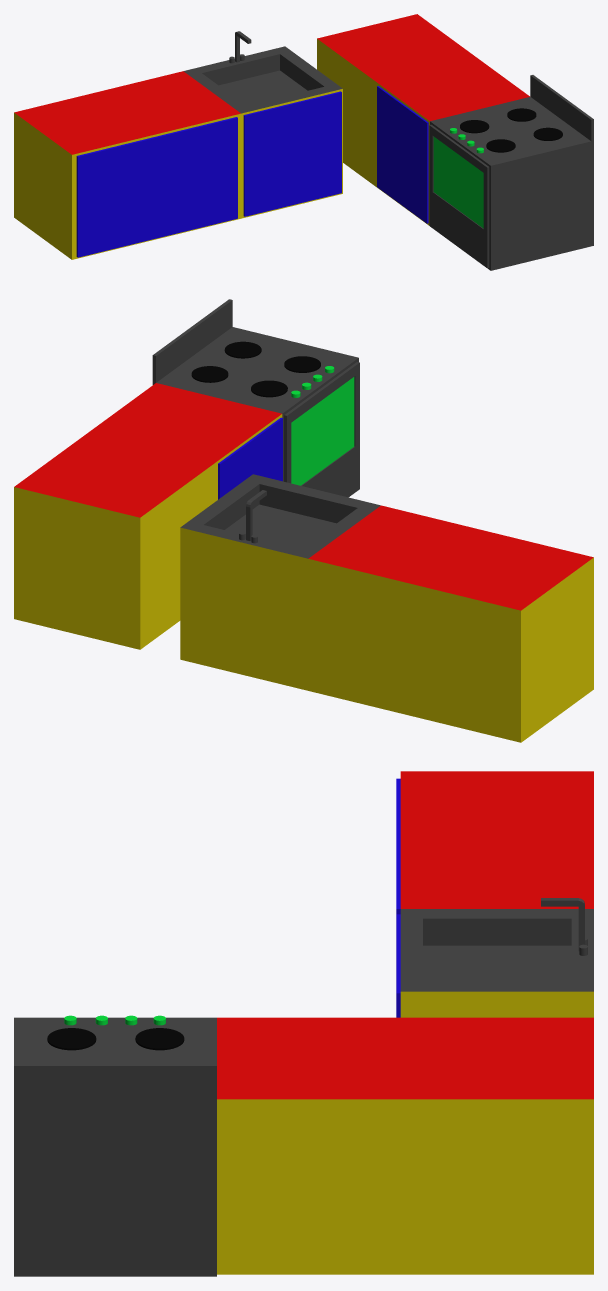
Rendered from SinkAndSlab.fbx.
3 renders of one model, top to bottom at view 1: azimuth 30°, elevation 25°; view 2: azimuth 150°, elevation 25°; view 3: azimuth 270°, elevation 25°, orthographic. The views are drawn at different scales.
Visible parts, largest first — view 1: Slab, Sink, LeftDoor, RightDoor, Doors in the slab; view 2: Sink, Slab, Doors in the slab; view 3: Slab, Sink.
Boxes of the visible parts, x1,y1,x2,y2 form: Slab: [317, 14, 593, 270]; Sink: [14, 31, 342, 259]; LeftDoor: [76, 136, 158, 257]; RightDoor: [157, 117, 237, 237]; Doors in the slab: [429, 124, 489, 268]; Sink: [180, 474, 593, 742]; Slab: [14, 299, 358, 649]; Doors in the slab: [284, 362, 359, 497]; Slab: [14, 1015, 593, 1276]; Sink: [396, 771, 593, 1017].
Bounding box in the file's own units: 2426 × 773 × 1800.
